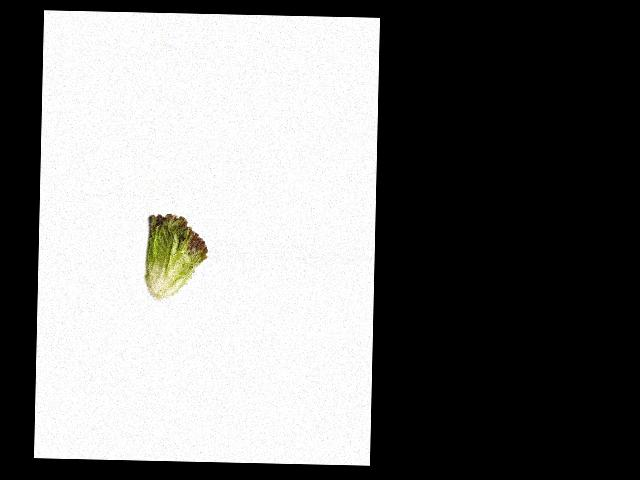lettuce: (146, 212, 207, 300)
